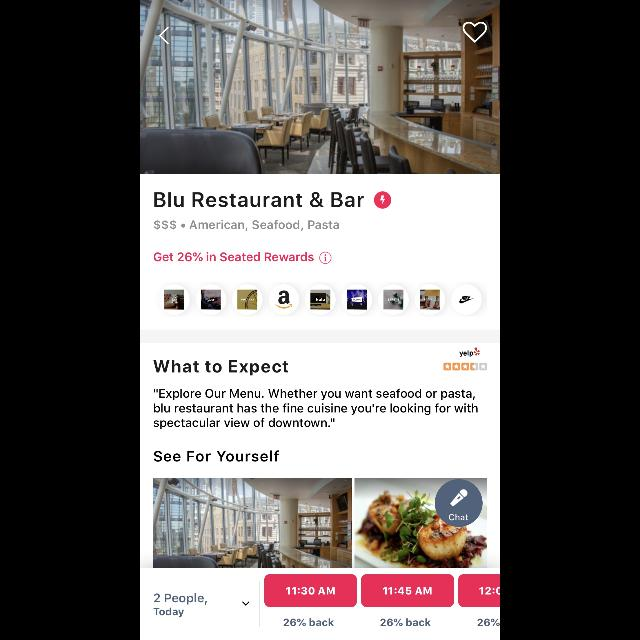icon: (462, 21, 488, 43), (444, 363, 486, 371), (159, 27, 169, 45), (320, 252, 332, 264), (242, 600, 250, 606)
image: (140, 0, 500, 174), (154, 478, 352, 568), (355, 478, 487, 568), (233, 284, 263, 316), (269, 284, 299, 316), (379, 284, 409, 316), (159, 285, 189, 315), (196, 285, 226, 315), (306, 285, 336, 315), (342, 285, 372, 315), (415, 285, 445, 315), (452, 285, 482, 315), (450, 489, 468, 506), (374, 192, 392, 208), (460, 348, 480, 357)
text: (154, 388, 478, 429), (154, 192, 363, 208), (154, 220, 340, 232), (154, 360, 288, 376), (154, 252, 314, 262), (154, 451, 280, 462), (154, 593, 208, 617), (381, 618, 432, 626), (284, 618, 334, 626), (478, 618, 500, 626), (448, 514, 468, 520)
textbutton: (362, 574, 454, 608), (265, 574, 357, 606), (458, 574, 500, 608)
